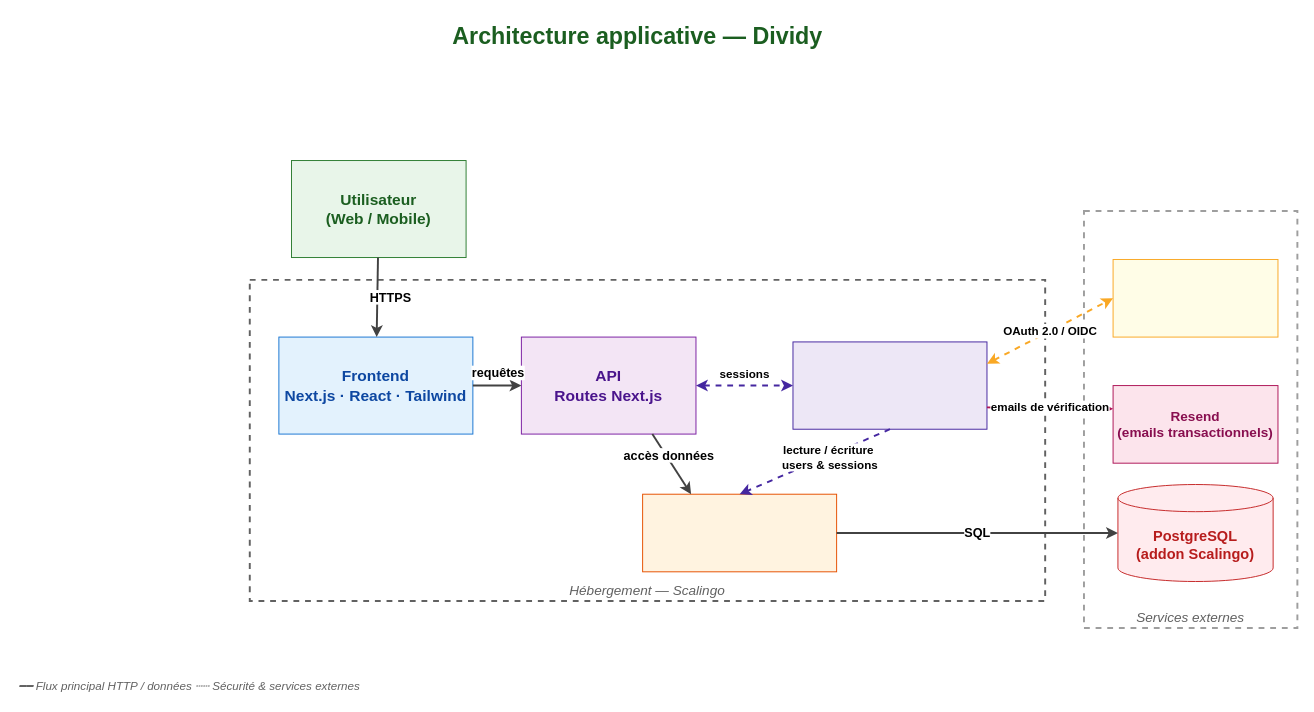
Some shapes in this 1314 by 712 pixel diagram are drawn without their labels. The shapes that lost their labels are listed below. From the top down, each one's centre as x and y in pixels, then its label:
At (x=1195, y=298): "Google OAuth (OpenID Connect)".
At (x=889, y=385): "Authentification better-auth (lib intégrée)".
At (x=739, y=532): "Prisma ORM".
